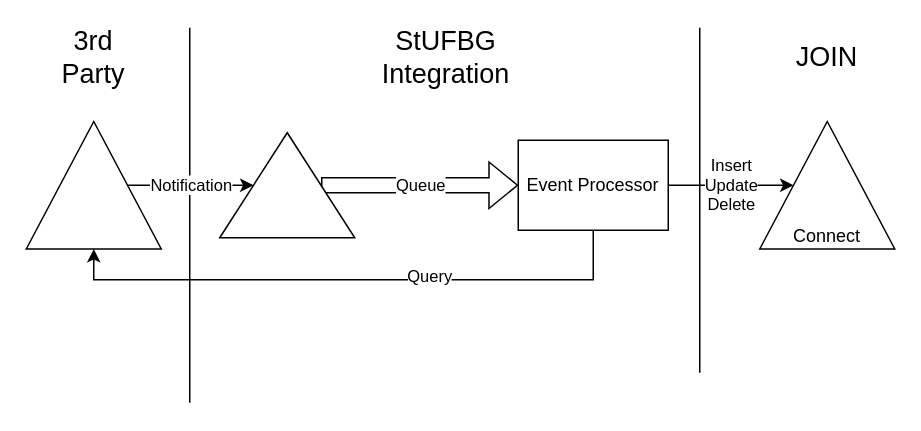
The diagram is 921 pixels wide and 431 high, and some of its shapes have lost their labels. Here are the shapes that lost their labels. From the top down, the centre of each, then its label:
At pixel 93 184: "Vendor".
At pixel 286 184: "Event Reception Service".
